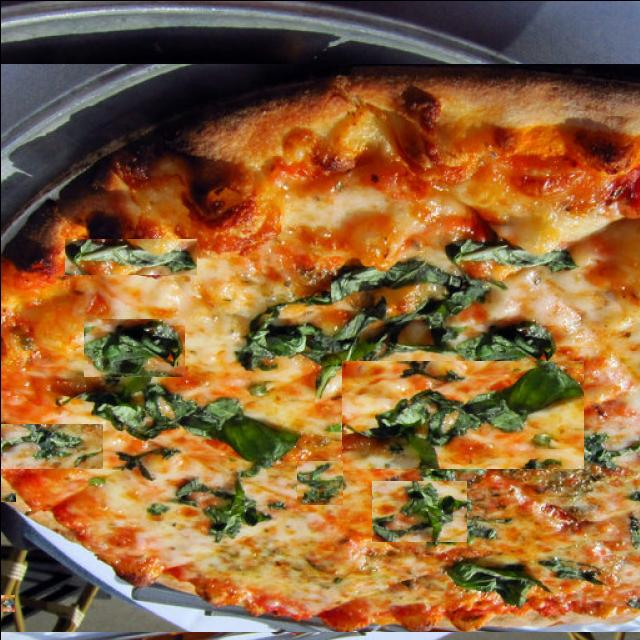basil: (136, 264, 404, 398), (341, 360, 583, 468), (131, 430, 255, 551), (371, 478, 466, 540), (83, 318, 184, 376), (90, 560, 197, 609), (64, 238, 196, 274), (0, 423, 102, 468), (77, 392, 163, 420), (35, 556, 102, 588), (296, 459, 342, 504), (0, 510, 15, 550), (0, 594, 14, 611), (0, 490, 15, 500)
pizza: (0, 63, 640, 631)
